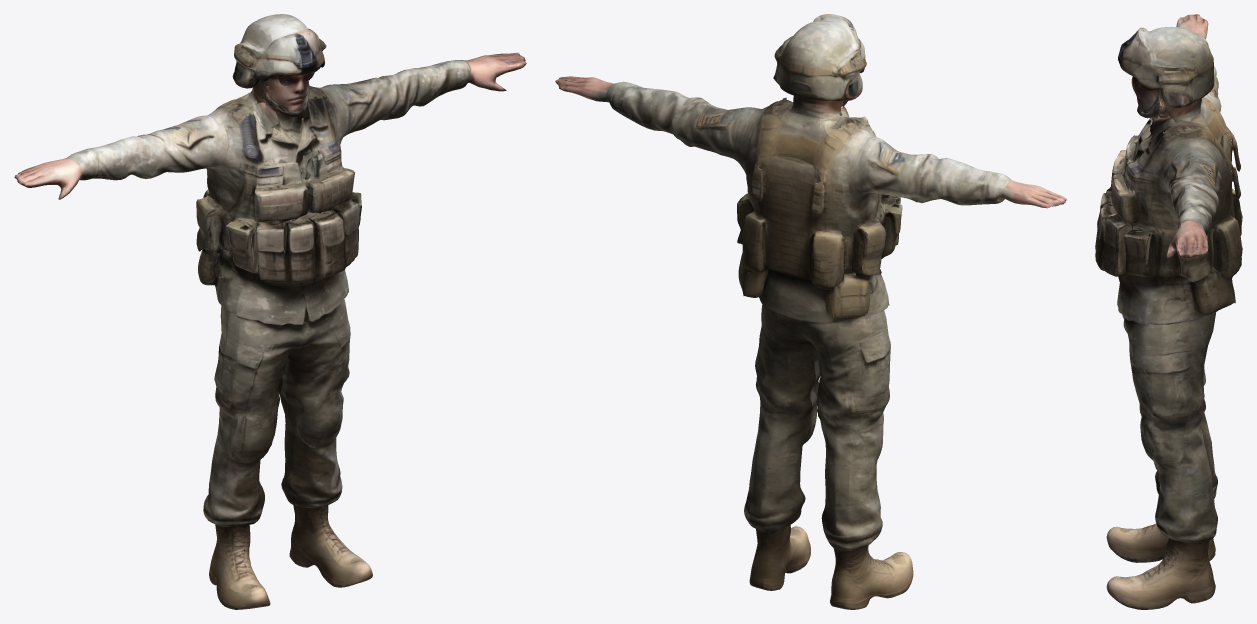
File: modern_infantry__us-soldier-tpose.glb
3 renders of one model, left to right at view 1: azimuth 30°, elevation 25°; view 2: azimuth 150°, elevation 25°; view 3: azimuth 270°, elevation 25°, orthographic. The views are drawn at different scales.
Size of the model in its own units: 1.89 by 2 by 0.4865.
1 material, 1 textured.
